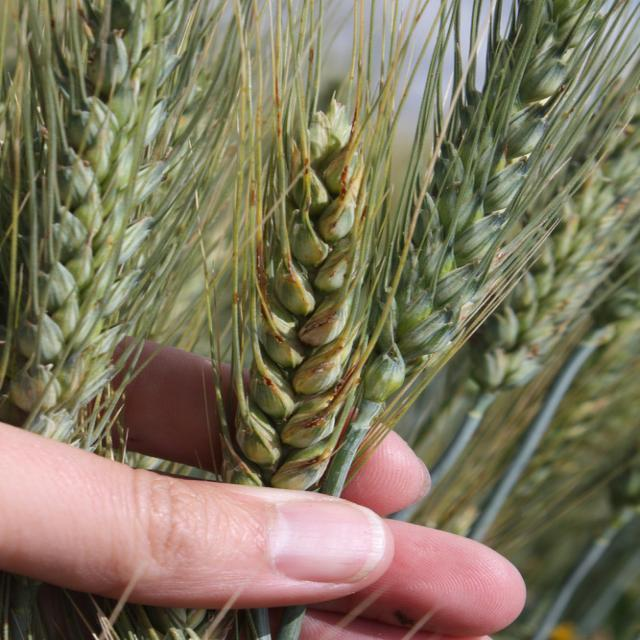wheat-stemrust: (281, 365, 355, 449), (268, 429, 339, 491), (292, 326, 348, 396), (259, 299, 303, 369), (272, 252, 315, 318), (244, 360, 287, 424), (253, 354, 293, 421), (298, 296, 350, 347)
